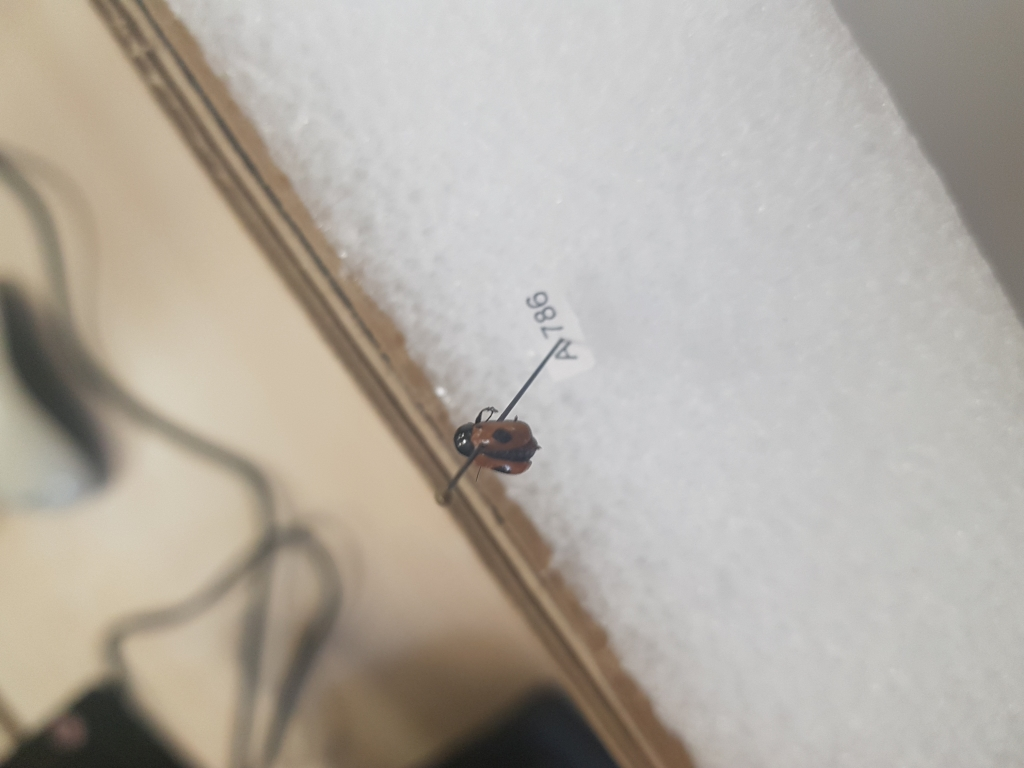Cryptocephalus_bipunctatus: (450, 399, 544, 480)
